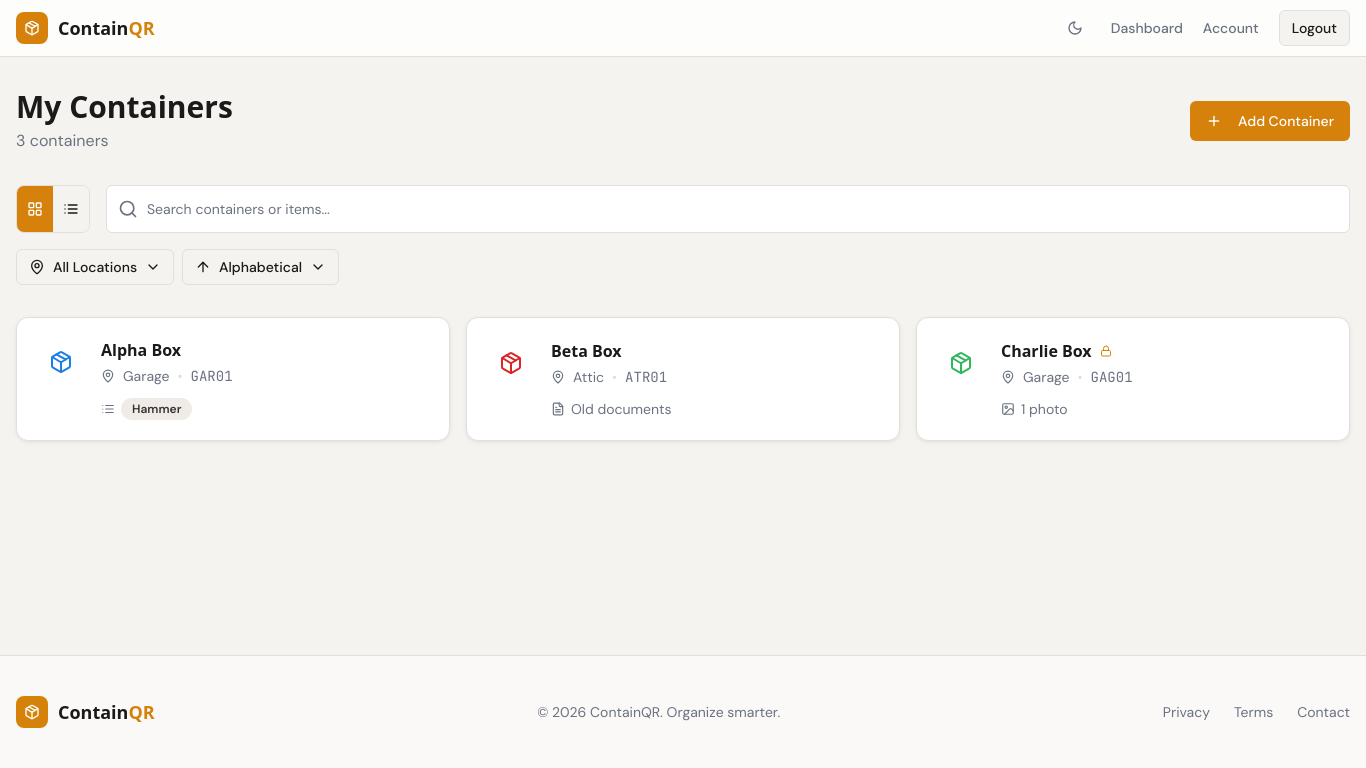
Test: Dashboard › shows "No matches found" when search has no results and containers exist
The width and height of the screenshot is (1366, 768).
Expected: the heading "Alpha Box" is shown, x1=101 y1=338 x2=181 y2=362
Type "zzz" into the field with placeholder "Search containers or items...". click: (728, 209)
box: x1=106 y1=185 x2=1350 y2=233
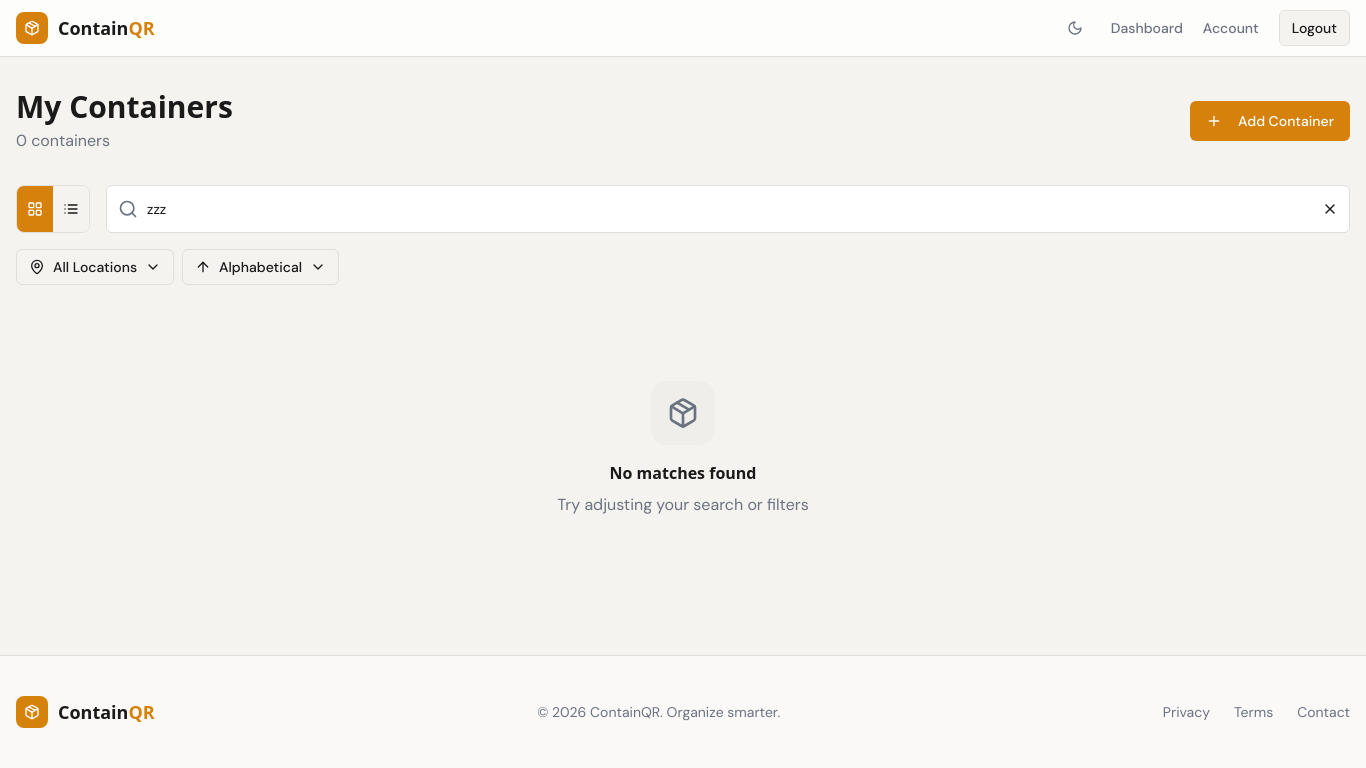
Expected: the heading "No matches found" is shown, x1=610 y1=462 x2=756 y2=484
